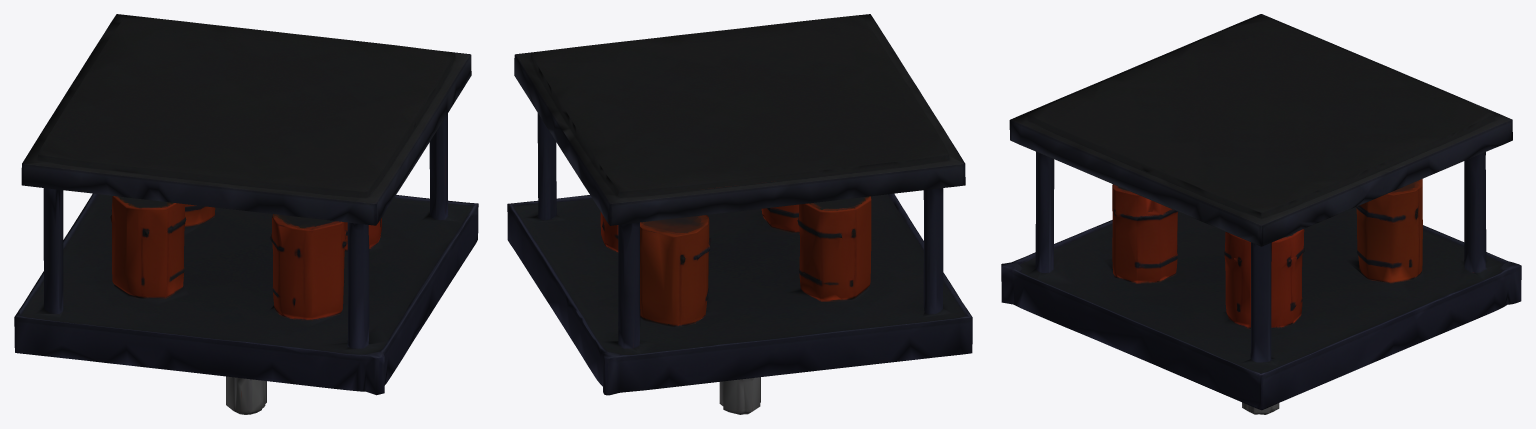
Rendered from mining_rig.glb.
The picture shows the model from 3 angles, left to right: view 1: azimuth 30°, elevation 25°; view 2: azimuth 150°, elevation 25°; view 3: azimuth 270°, elevation 25°; orthographic projection. The views are drawn at different scales.
Visible parts, largest first — view 1: world; view 2: world; view 3: world.
Part boxes in pixels (<box>): world: <box>14,14,478,414</box>; world: <box>507,14,972,414</box>; world: <box>1001,14,1521,414</box>.
Size of the model in its own units: 0.9969 by 0.6309 by 0.9994.
Materials: 1 (1 with a texture image).
